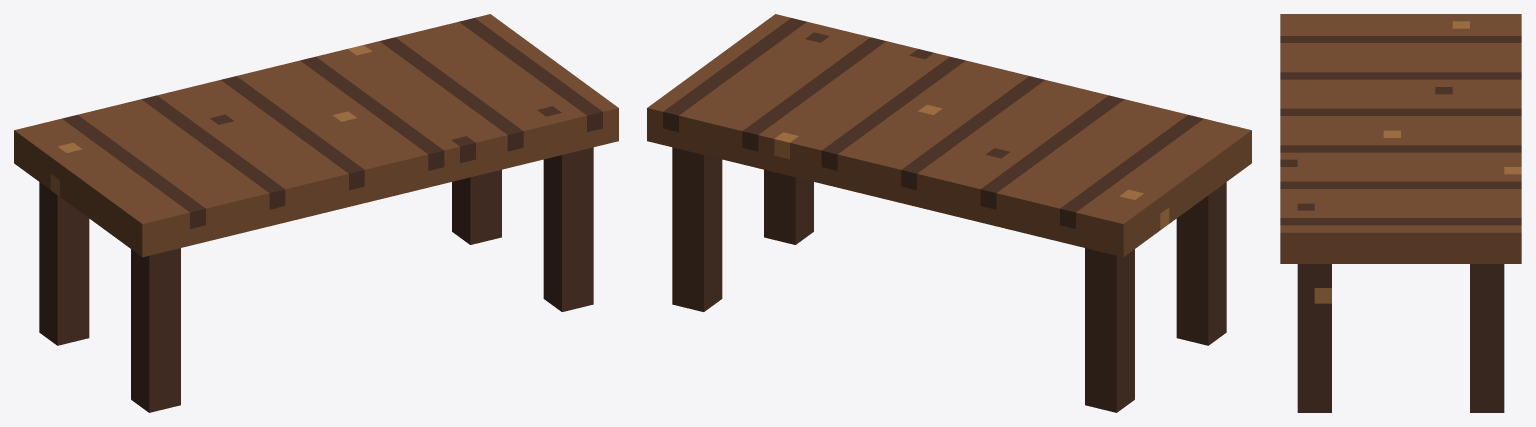
Rendered from table.obj.
3 renders of one model, left to right at view 1: azimuth 30°, elevation 25°; view 2: azimuth 150°, elevation 25°; view 3: azimuth 270°, elevation 25°, orthographic. The views are drawn at different scales.
Parts seen in each view (by area): view 1: table; view 2: table; view 3: table.
Part boxes in pixels (x1,y1,x2,y2): table: (14,14,618,412); table: (647,14,1251,412); table: (1280,14,1521,412).
Size of the model in its own units: 1.88 by 0.75 by 0.875.
Materials: 1 (1 with a texture image).
